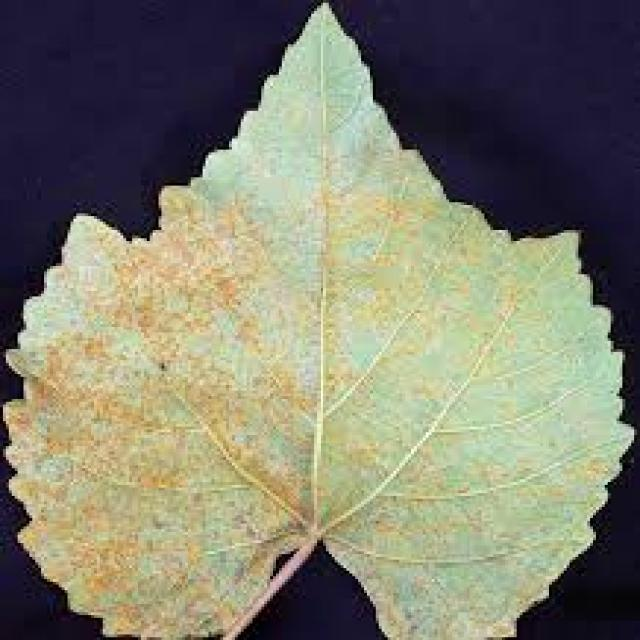leaf_rust: (6, 6, 631, 637)
